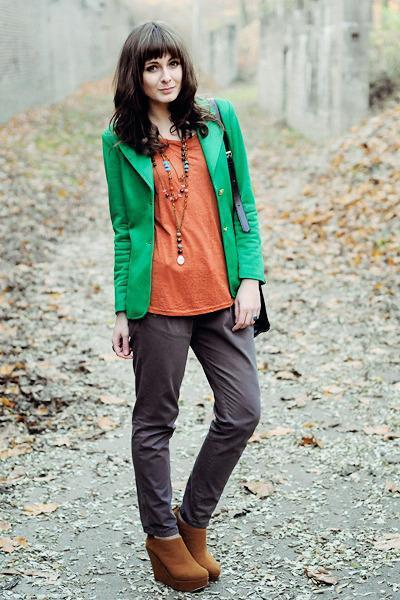bag: (210, 180, 240, 227)
jacket: (102, 102, 266, 318)
pants: (124, 303, 280, 543)
shirt: (149, 141, 234, 315)
shoe: (140, 528, 223, 593)
